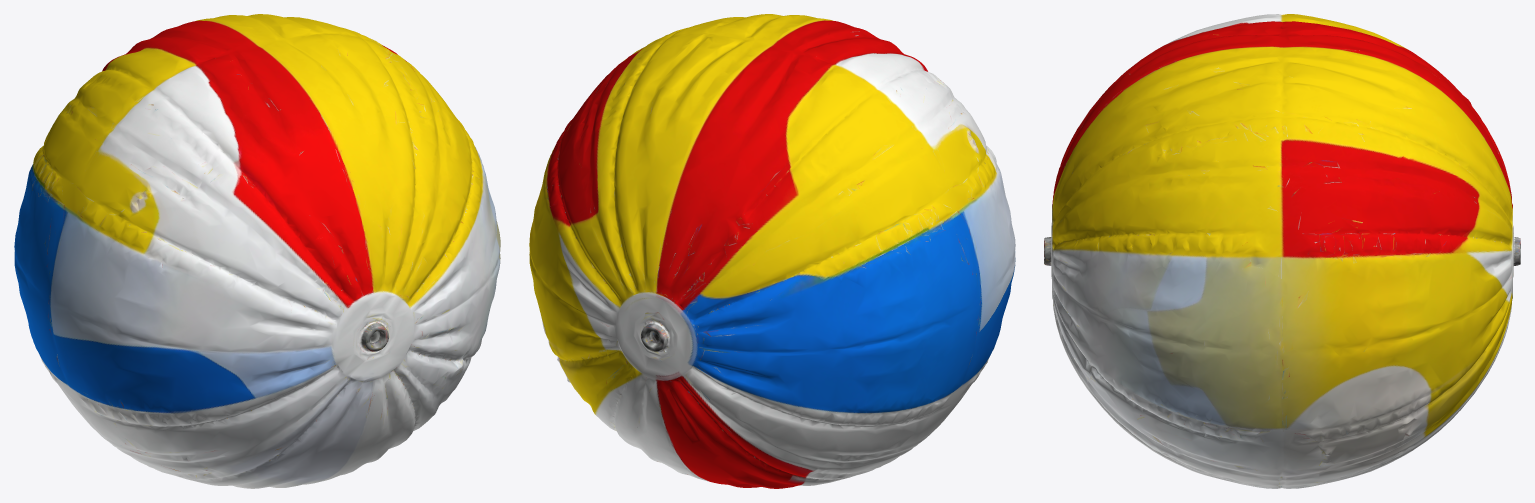
File: prop-beachball.glb
The picture shows the model from 3 angles, left to right: view 1: azimuth 30°, elevation 25°; view 2: azimuth 150°, elevation 25°; view 3: azimuth 270°, elevation 25°; orthographic projection.
Parts seen in each view (by area): view 1: Mesh_0; view 2: Mesh_0; view 3: Mesh_0.
Part boxes in pixels (x1,y1,x2,y2): Mesh_0: (14, 14, 500, 488); Mesh_0: (529, 14, 1015, 488); Mesh_0: (1044, 14, 1520, 488).
Bounding box in the file's own units: 1.9 × 1.8 × 1.9.
Materials: 1 (1 with a texture image).
